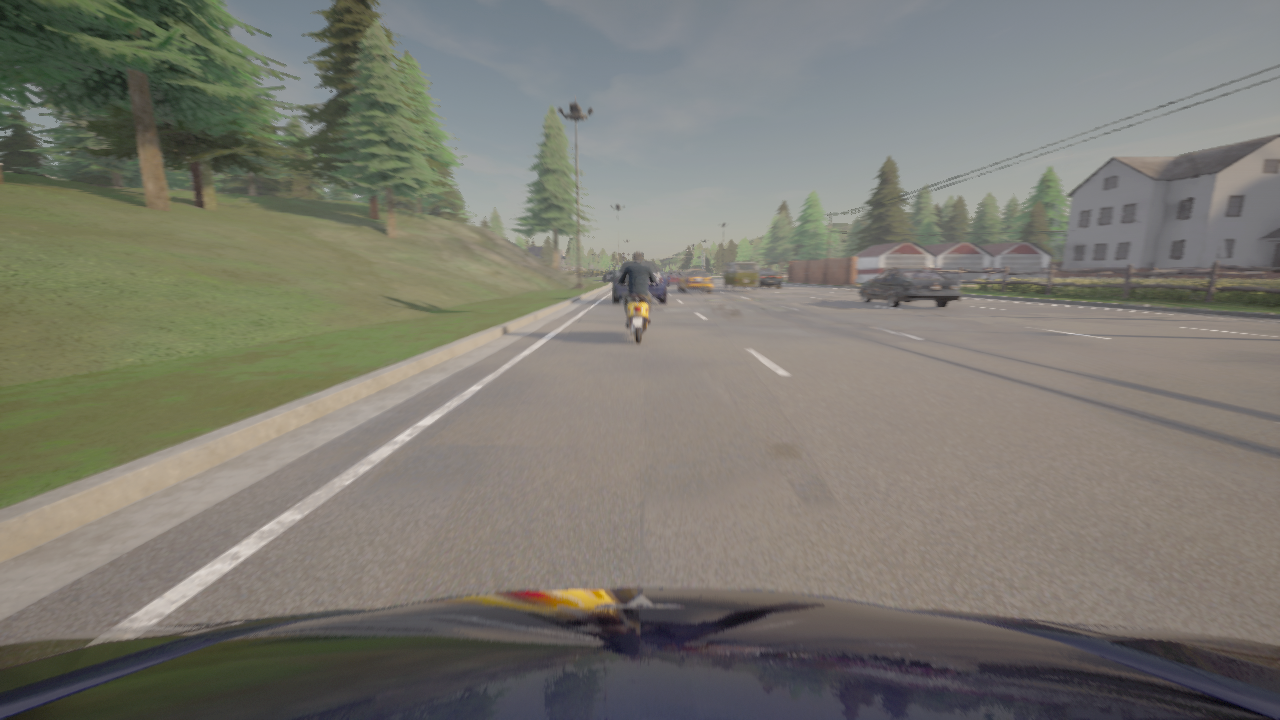cyclist: (0, 588, 1279, 719), (859, 268, 961, 307), (616, 272, 660, 342), (613, 261, 666, 303), (722, 262, 758, 290), (678, 267, 712, 292), (756, 269, 782, 287), (665, 271, 682, 285), (603, 271, 615, 281), (683, 272, 684, 273)
